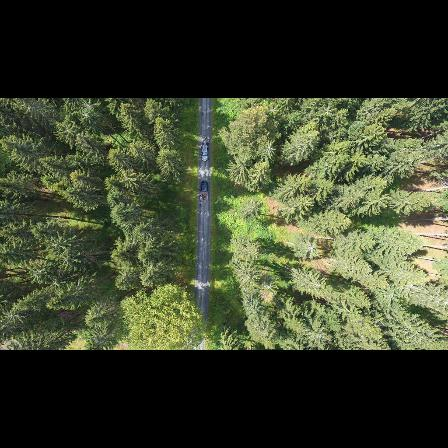Sick: (298, 236, 323, 261), (258, 135, 279, 161), (27, 261, 49, 283), (43, 273, 66, 292), (263, 102, 284, 119), (318, 102, 338, 119)
